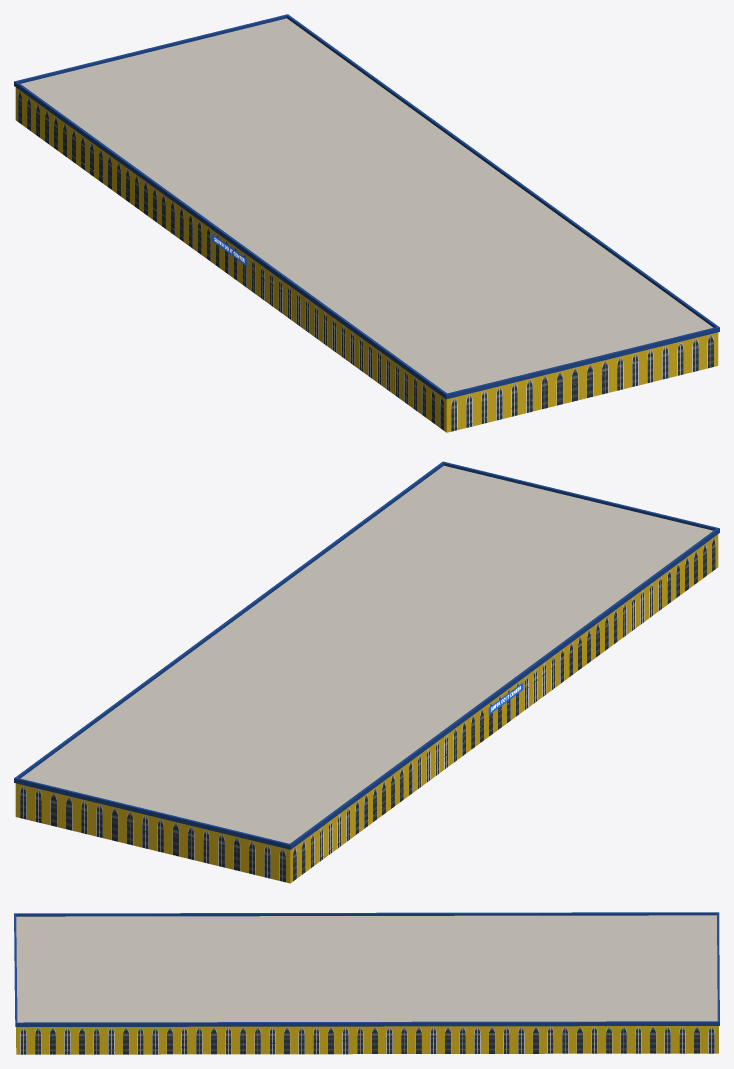
File: superdoit.glb
3 renders of one model, top to bottom at view 1: azimuth 30°, elevation 25°; view 2: azimuth 150°, elevation 25°; view 3: azimuth 270°, elevation 25°, orthographic. The views are drawn at different scales.
Visible parts, largest first — view 1: superdoit_lod0; view 2: superdoit_lod0; view 3: superdoit_lod0.
Part boxes in pixels (x1=…): superdoit_lod0: x1=14, y1=14, x2=719, y2=432; superdoit_lod0: x1=14, y1=461, x2=719, y2=883; superdoit_lod0: x1=14, y1=912, x2=719, y2=1054.
Size of what is drawn, in the model's own units: 64.59 by 8.59 by 173.
Materials: 4 (2 with a texture image).
